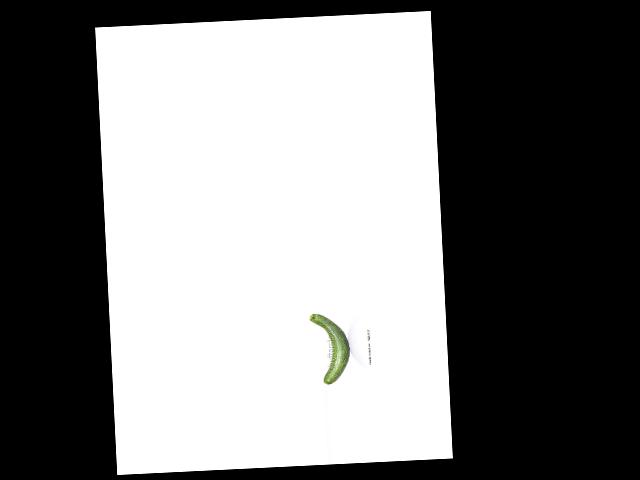cucumber: (309, 312, 351, 384)
